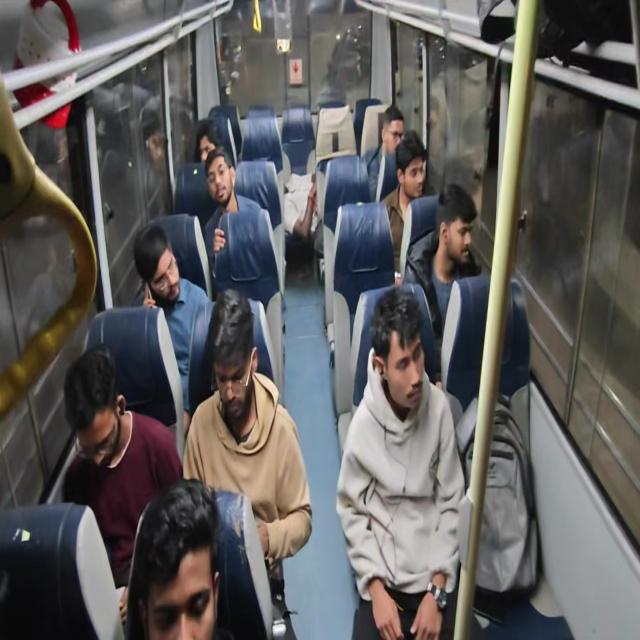person: (131, 516, 216, 640), (54, 347, 131, 479), (204, 288, 274, 426), (368, 292, 433, 414), (132, 230, 191, 316), (435, 183, 482, 274), (202, 146, 239, 208), (400, 131, 428, 199), (379, 103, 406, 147), (198, 124, 215, 158)
